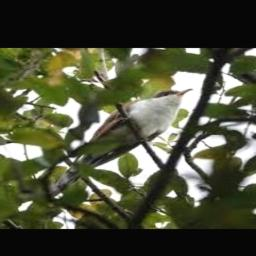Cuckoo: (47, 88, 192, 196)
